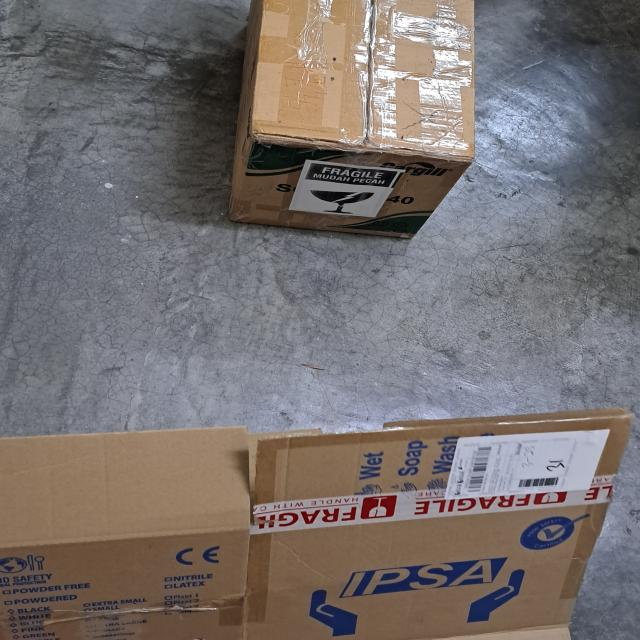cardboard: (0, 411, 632, 640), (227, 0, 473, 240)
